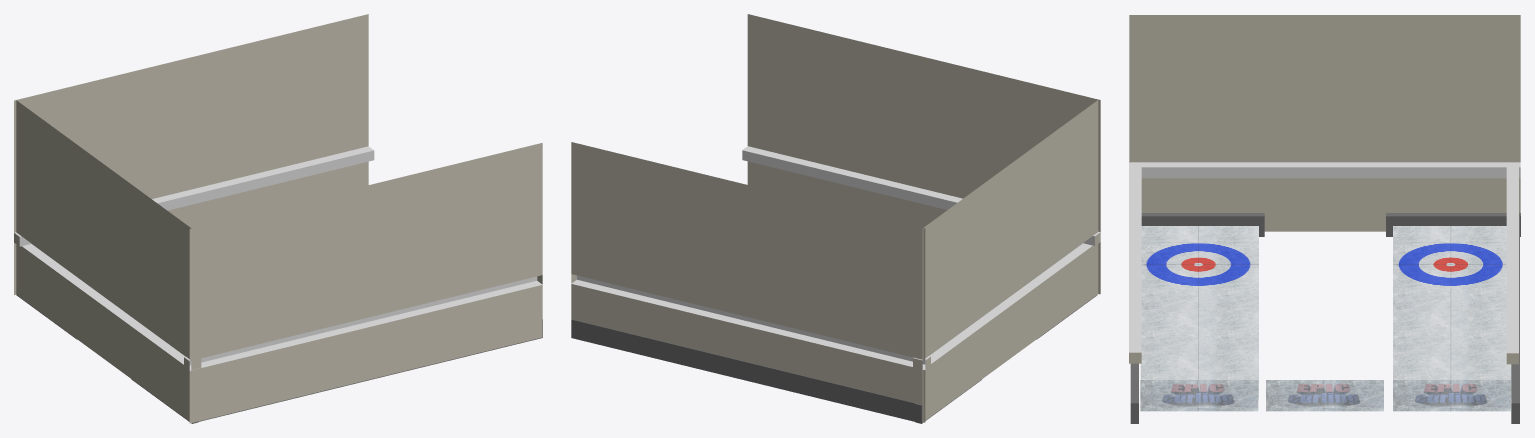
Rendered from BG_Icerink.fbx.
3 renders of one model, left to right at view 1: azimuth 30°, elevation 25°; view 2: azimuth 150°, elevation 25°; view 3: azimuth 270°, elevation 25°, orthographic. The views are drawn at different scales.
Parts seen in each view (by area): view 1: polySurface5; view 2: polySurface5; view 3: polySurface5.
Part boxes in pixels (x1,y1,x2,y2): polySurface5: [14, 14, 542, 423]; polySurface5: [571, 14, 1100, 423]; polySurface5: [1129, 15, 1520, 423].
Bounding box in the file's own units: 13.42 × 7.09 × 11.56.
5 materials, 2 textured.
